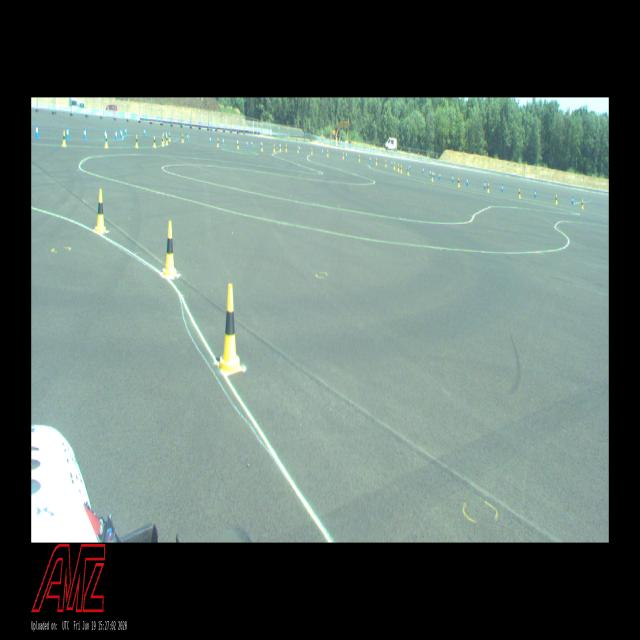blue_cone: (35, 124, 39, 138), (114, 128, 118, 140), (66, 126, 69, 139), (438, 171, 441, 180), (84, 128, 86, 140), (222, 137, 225, 145), (121, 129, 123, 140), (120, 128, 122, 138), (429, 168, 431, 178), (534, 189, 536, 198), (466, 178, 468, 187), (572, 196, 574, 205), (322, 147, 324, 156), (187, 133, 189, 141), (144, 128, 146, 136), (125, 128, 127, 136), (452, 175, 454, 183), (501, 184, 503, 192), (484, 181, 486, 189), (165, 130, 167, 138), (299, 145, 301, 153), (346, 152, 348, 160), (251, 140, 253, 147), (210, 136, 212, 143), (246, 140, 248, 147), (391, 160, 393, 167), (433, 171, 435, 178), (409, 164, 411, 171), (369, 156, 371, 163), (105, 128, 106, 140), (422, 168, 424, 174)
yellow_cone: (217, 284, 243, 375), (162, 221, 177, 278), (95, 189, 106, 233), (62, 131, 66, 147), (105, 134, 108, 148), (153, 136, 156, 148), (555, 194, 558, 204), (581, 199, 584, 209), (518, 189, 521, 198), (162, 133, 165, 142), (136, 135, 138, 147), (487, 183, 489, 193), (162, 136, 164, 146), (217, 138, 219, 147), (168, 132, 170, 141), (182, 133, 184, 142), (261, 143, 263, 152), (166, 136, 168, 145), (238, 141, 240, 150), (432, 172, 434, 181), (458, 178, 460, 186), (400, 165, 402, 173), (384, 160, 386, 168), (407, 167, 409, 175), (274, 144, 276, 152), (393, 162, 395, 170), (286, 144, 288, 152), (342, 152, 344, 160), (327, 150, 329, 157), (311, 148, 313, 154), (398, 163, 399, 172), (298, 145, 299, 153), (280, 144, 281, 152), (359, 155, 360, 162), (376, 158, 377, 165)
